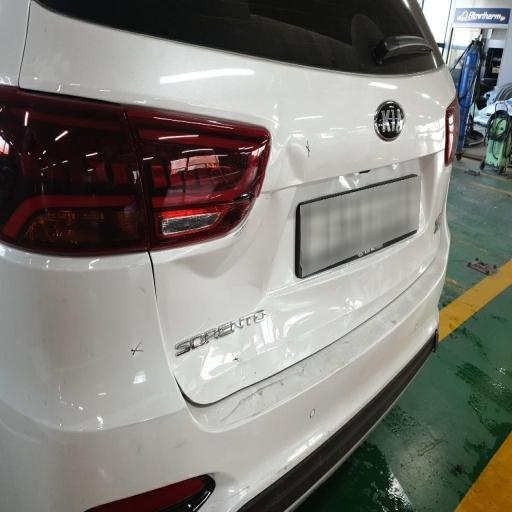dent: (158, 130, 463, 426)
